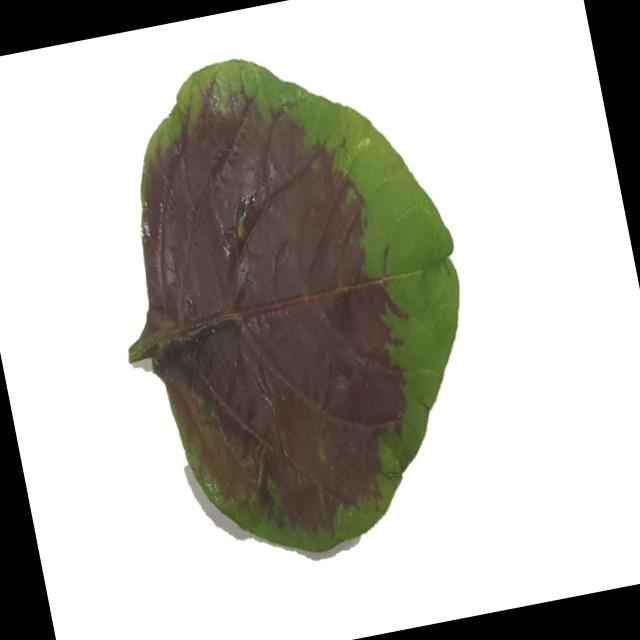Medicinal-Arive Dantu: (76, 19, 508, 586)
